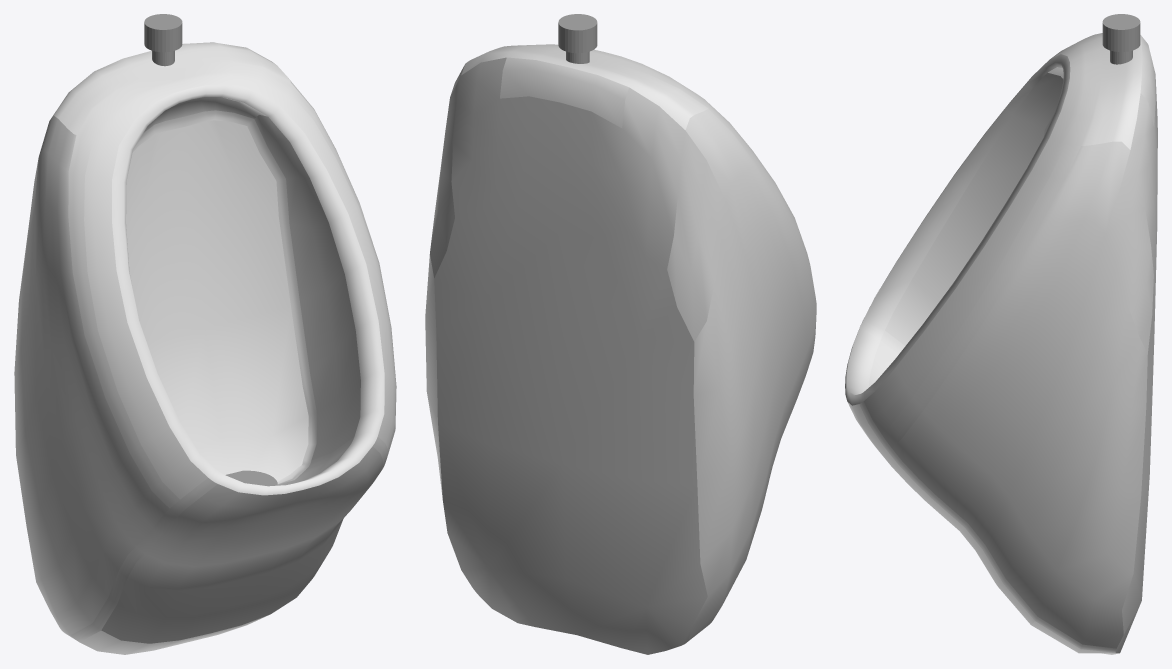
File: Urinal.fbx
The picture shows the model from 3 angles, left to right: view 1: azimuth 30°, elevation 25°; view 2: azimuth 150°, elevation 25°; view 3: azimuth 270°, elevation 25°; orthographic projection. The views are drawn at different scales.
Visible parts, largest first — view 1: Urinal; view 2: Urinal; view 3: Urinal.
Boxes of the visible parts, x1,y1,x2,y2 form: Urinal: [14, 14, 396, 654]; Urinal: [425, 14, 816, 654]; Urinal: [845, 14, 1157, 654].
Size of the model in its own units: 29.17 by 56.04 by 26.38.
